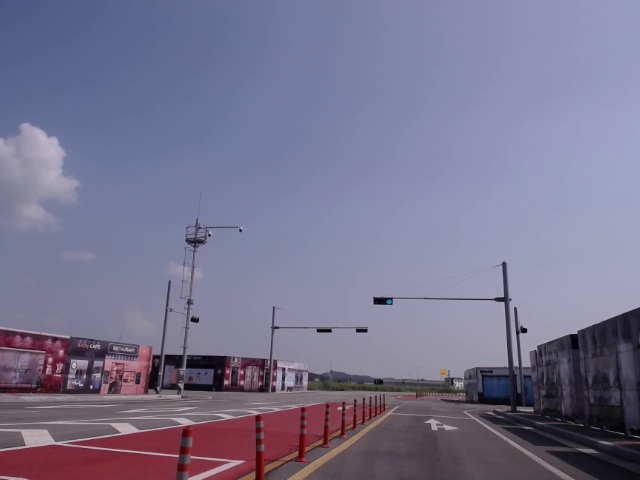green_3: (373, 297, 394, 306)
